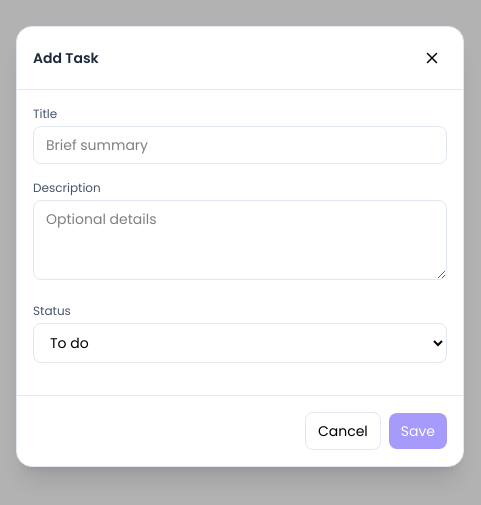
Scenario: Task Add or Edit Modal › should render title error field min length check
Type "A" into the field labelled "Title" at (240, 144), box x1=33 y1=126 x2=447 y2=164
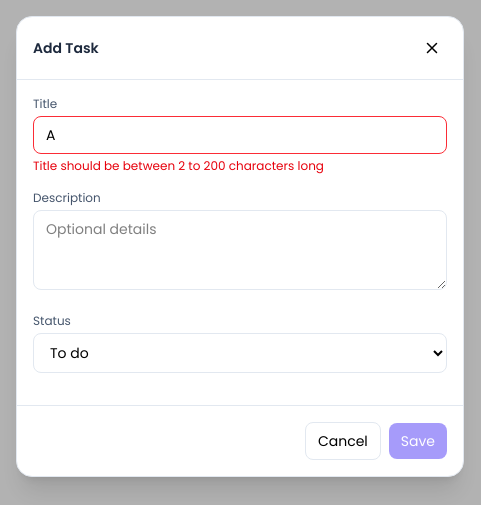
Check: the text "Title should be between 2 to 200 characters long" is shown, box x1=33 y1=156 x2=324 y2=174
